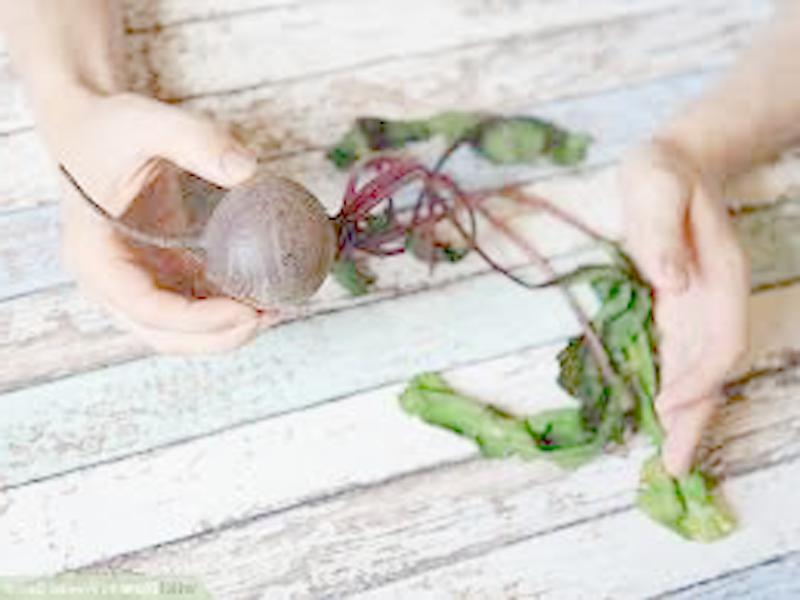Beet: (58, 114, 734, 541)
